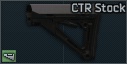Magpul CTR carbine stock Flat Dark Earth: (0, 0, 127, 64)
